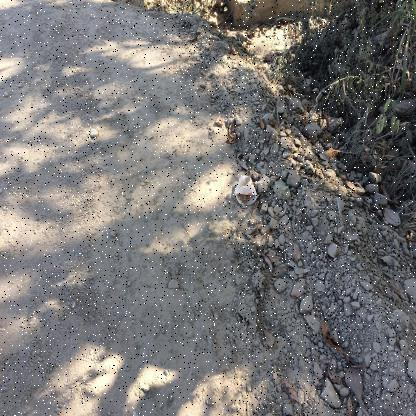cardboard: (234, 176, 257, 206)
